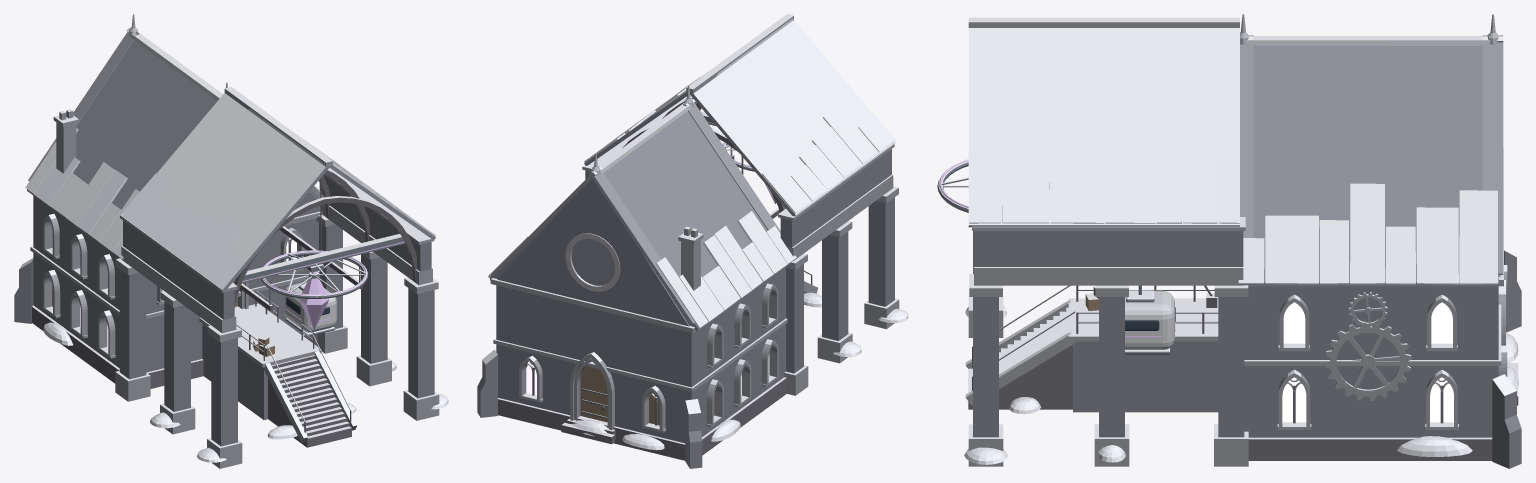
File: AR_Estacao_Cristal.fbx
The picture shows the model from 3 angles, left to right: view 1: azimuth 30°, elevation 25°; view 2: azimuth 150°, elevation 25°; view 3: azimuth 270°, elevation 25°; orthographic projection. The views are drawn at different scales.
Parts seen in each view (by area): view 1: AR_Estacao_Cristal; view 2: AR_Estacao_Cristal; view 3: AR_Estacao_Cristal.
Part boxes in pixels (box(x1,y1,x2,y2)): AR_Estacao_Cristal: box(14, 14, 448, 468); AR_Estacao_Cristal: box(477, 14, 908, 468); AR_Estacao_Cristal: box(937, 14, 1521, 468).
Size of the model in its own units: 17.62 by 19.34 by 26.9.
